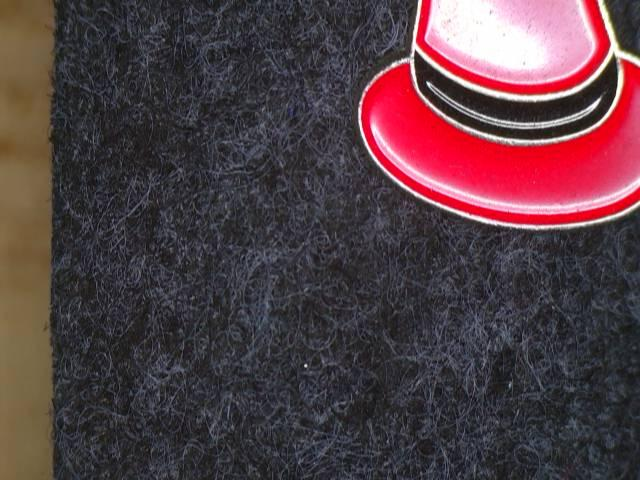Red-Hat: (339, 0, 640, 280)
